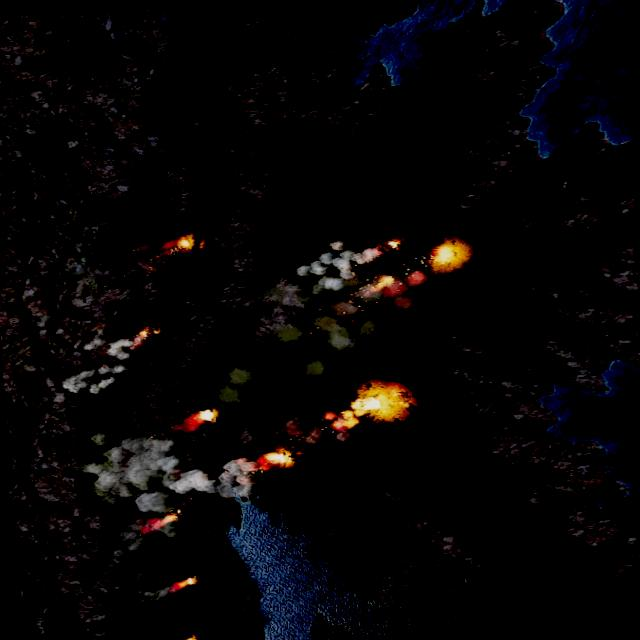fire: (330, 384, 409, 428), (431, 242, 468, 270), (260, 448, 294, 468), (146, 513, 180, 532), (189, 408, 221, 428), (173, 232, 203, 250), (136, 325, 160, 340), (173, 576, 200, 588), (386, 238, 402, 250), (171, 634, 200, 640)
smoke: (244, 236, 427, 352), (74, 418, 260, 526), (55, 334, 138, 396)
